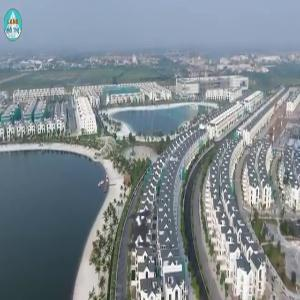drone: (94, 180, 196, 282)
